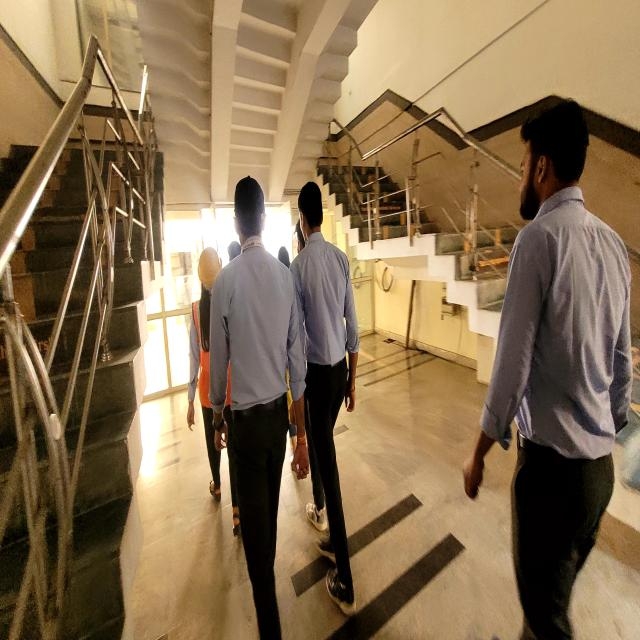safe: (188, 245, 244, 536)
unsafe: (464, 97, 639, 640), (211, 175, 302, 640), (292, 182, 358, 620)
